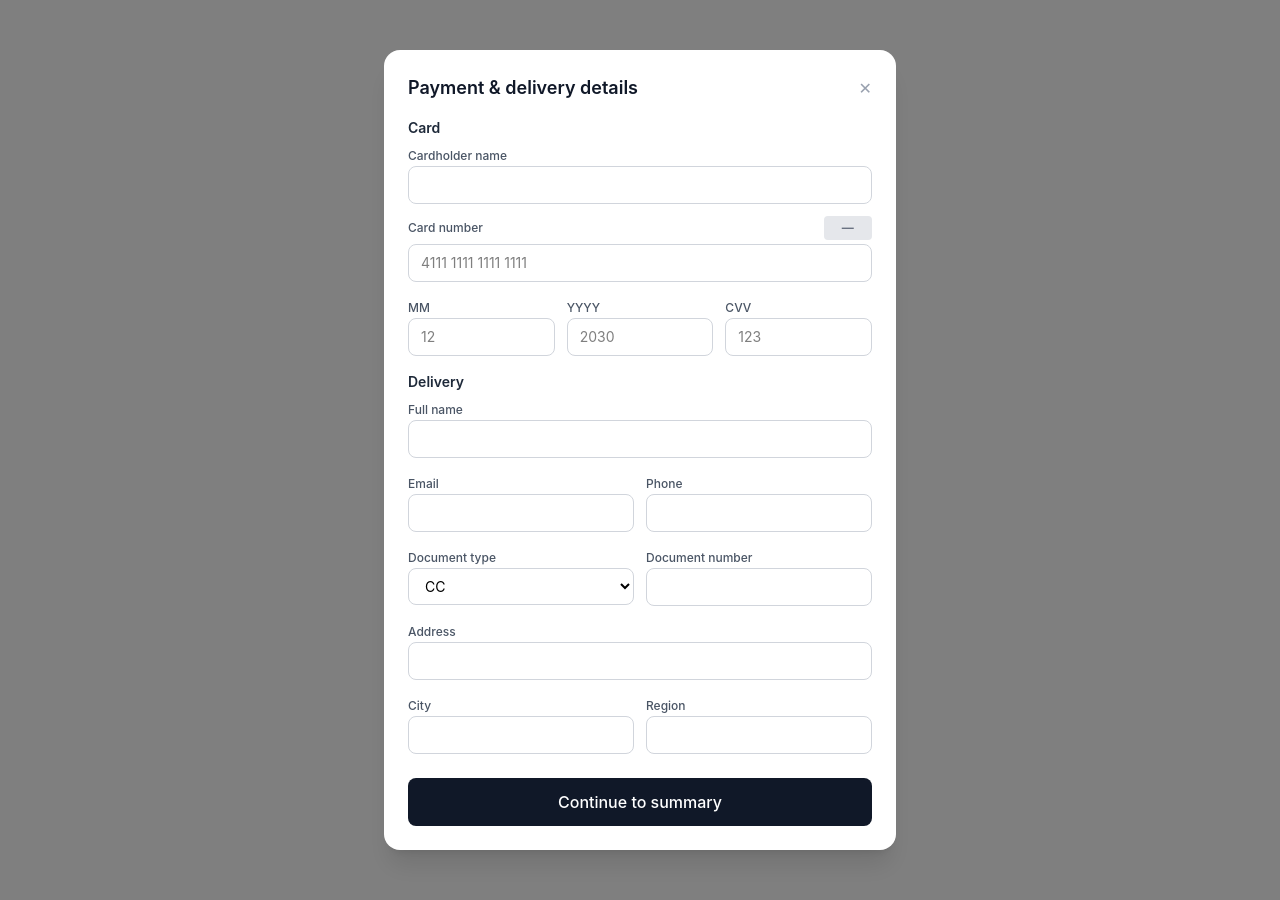
Scenario: CheckoutModal › shows the detected card brand as the user types
Type "4111111111111111" into the field labelled "Card number" at (640, 263), box x1=408 y1=244 x2=872 y2=282
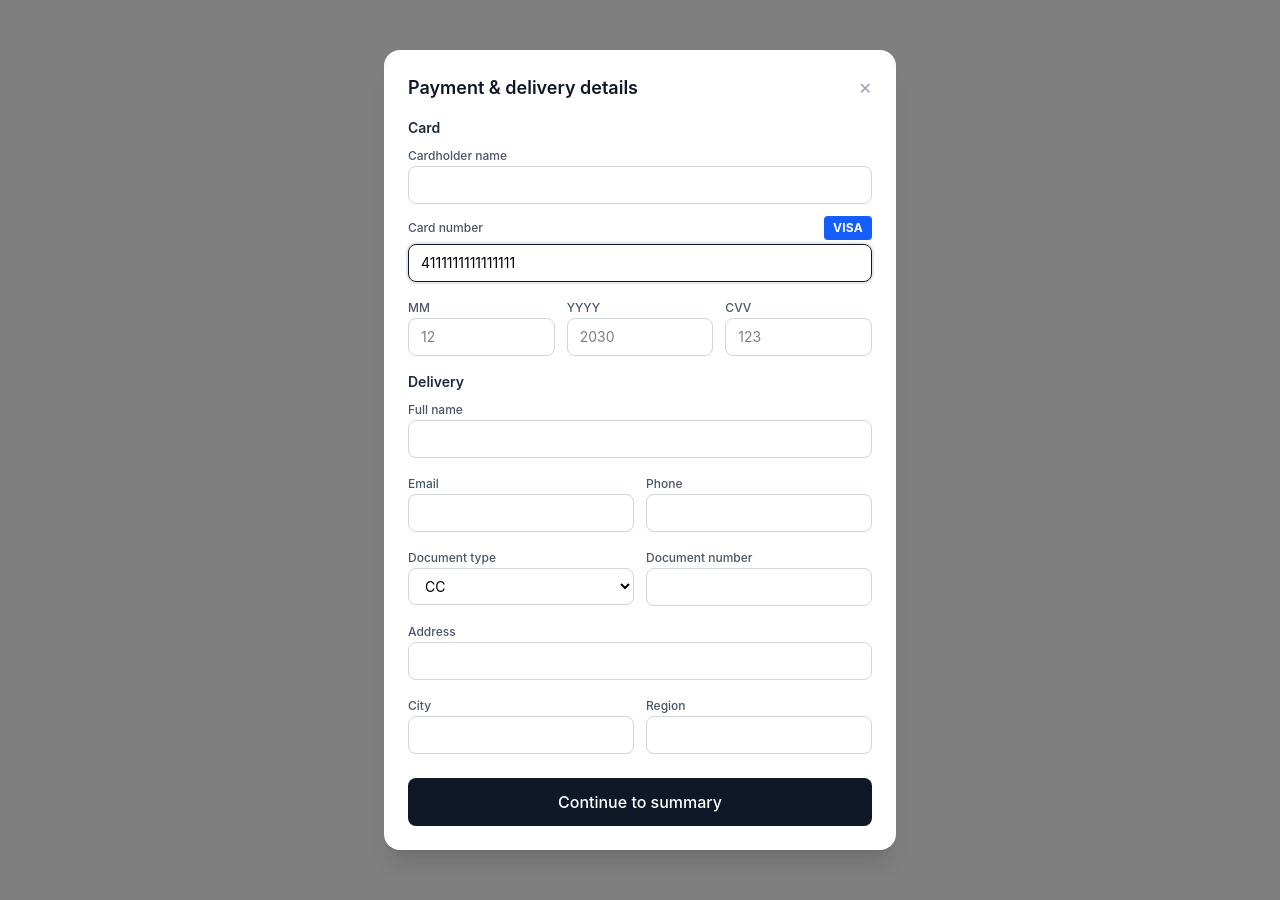
Check: the text with test id "card-brand-icon" reads "VISA", box x1=833 y1=220 x2=863 y2=235
